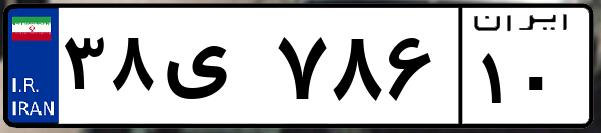0: (525, 38, 570, 115)
1: (475, 38, 525, 113)
3: (57, 26, 110, 100)
6: (385, 28, 445, 110)
7: (270, 28, 330, 110)
8: (330, 28, 385, 110), (110, 28, 158, 98)
ی: (158, 20, 270, 120)
